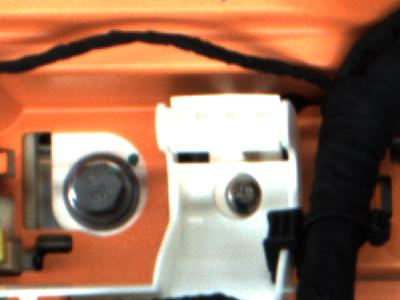nut_b: (57, 151, 148, 227)
